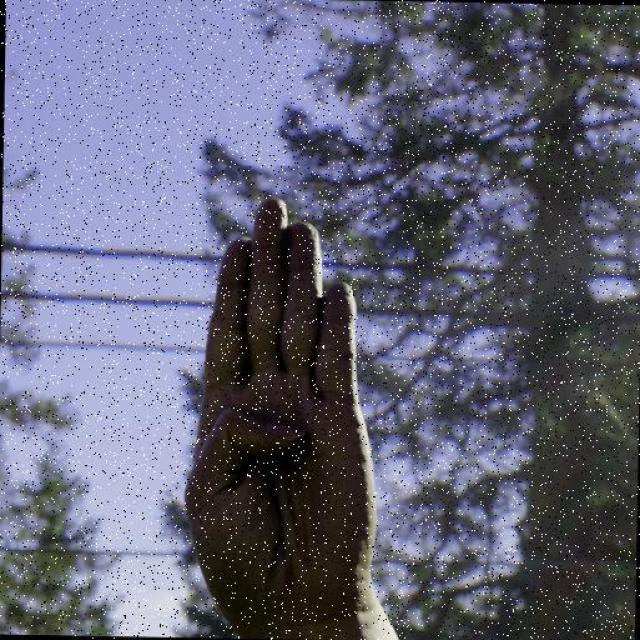B: (176, 182, 390, 627)
